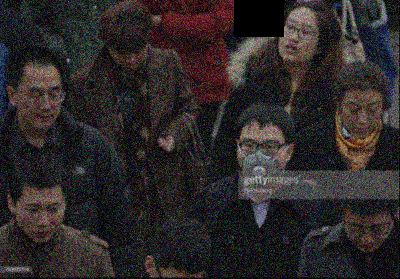with_mask: (236, 135, 289, 184)
without_mask: (17, 198, 68, 244), (17, 82, 63, 132), (277, 15, 321, 64), (341, 96, 384, 138), (345, 216, 392, 252), (111, 44, 148, 71)
